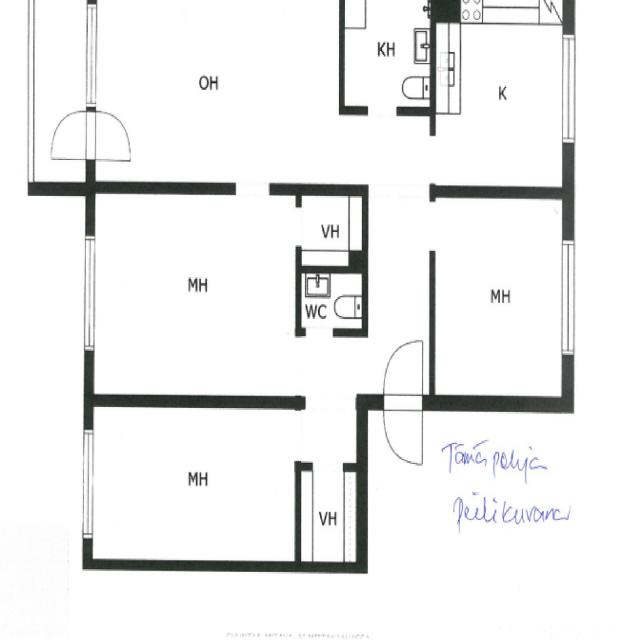door: (383, 396, 422, 464), (383, 343, 422, 410), (84, 112, 130, 159), (51, 112, 96, 159)
